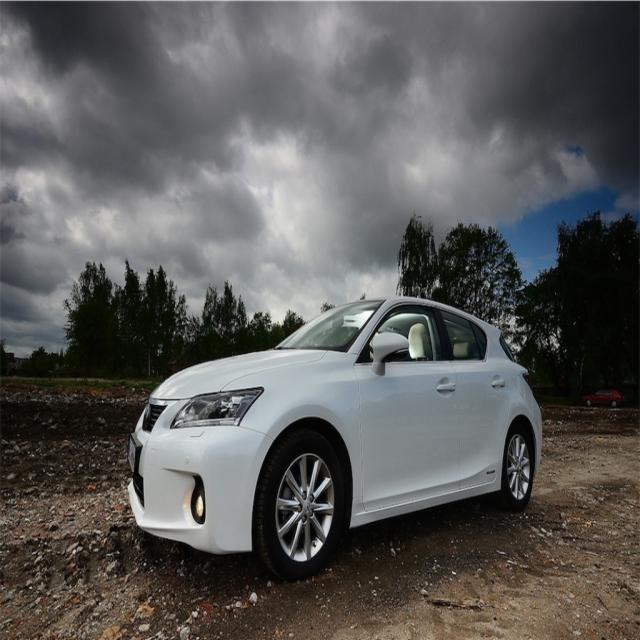car: (124, 297, 542, 584), (583, 385, 620, 407)
